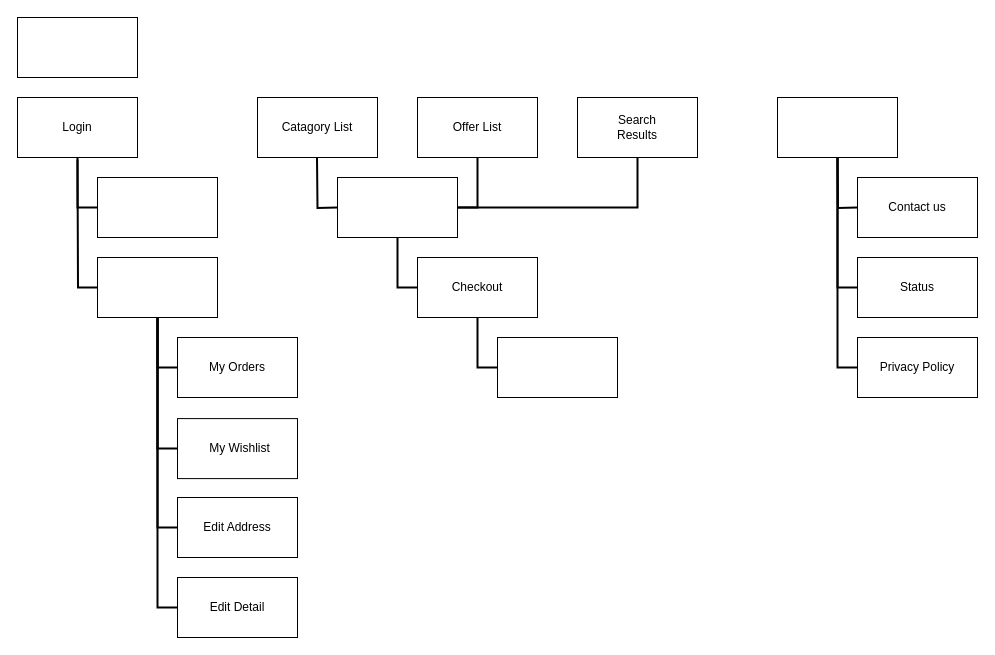
The diagram is 995 pixels wide and 655 high, and some of its shapes have lost their labels. The shapes that lost their labels are listed below. From the top down, each one's box as (x1, y1, x2, y2) in pixels, then its label:
(16, 16, 138, 78): Homepage
(776, 96, 898, 158): Help
(96, 176, 218, 238): Register
(336, 176, 458, 238): Product
(96, 256, 218, 318): My Account
(496, 336, 618, 398): Appoint
